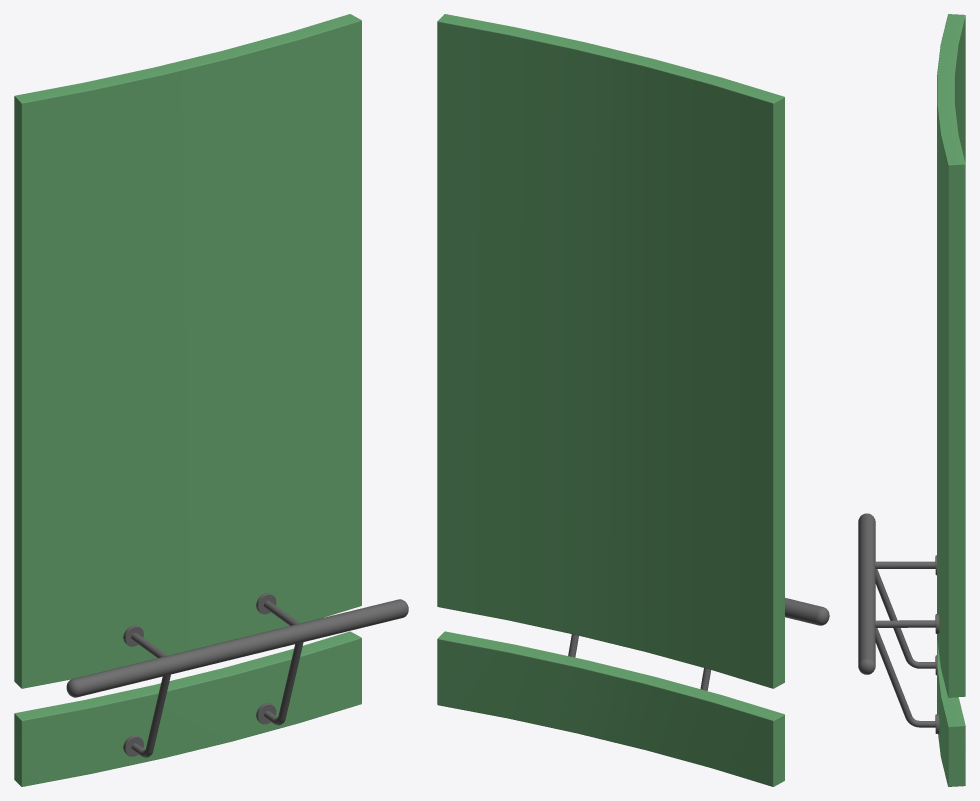
The model's file is glass_info_display_museum_01a.fbx.
3 renders of one model, left to right at view 1: azimuth 30°, elevation 25°; view 2: azimuth 150°, elevation 25°; view 3: azimuth 270°, elevation 25°, orthographic. The views are drawn at different scales.
Parts seen in each view (by area): view 1: glass_info_display_museum_01a; view 2: glass_info_display_museum_01a; view 3: glass_info_display_museum_01a.
Boxes of the visible parts, <box> form: glass_info_display_museum_01a: <box>14,14,408,786</box>; glass_info_display_museum_01a: <box>437,14,829,786</box>; glass_info_display_museum_01a: <box>858,14,965,786</box>.
Bounding box in the file's own units: 164 × 315 × 49.37.
